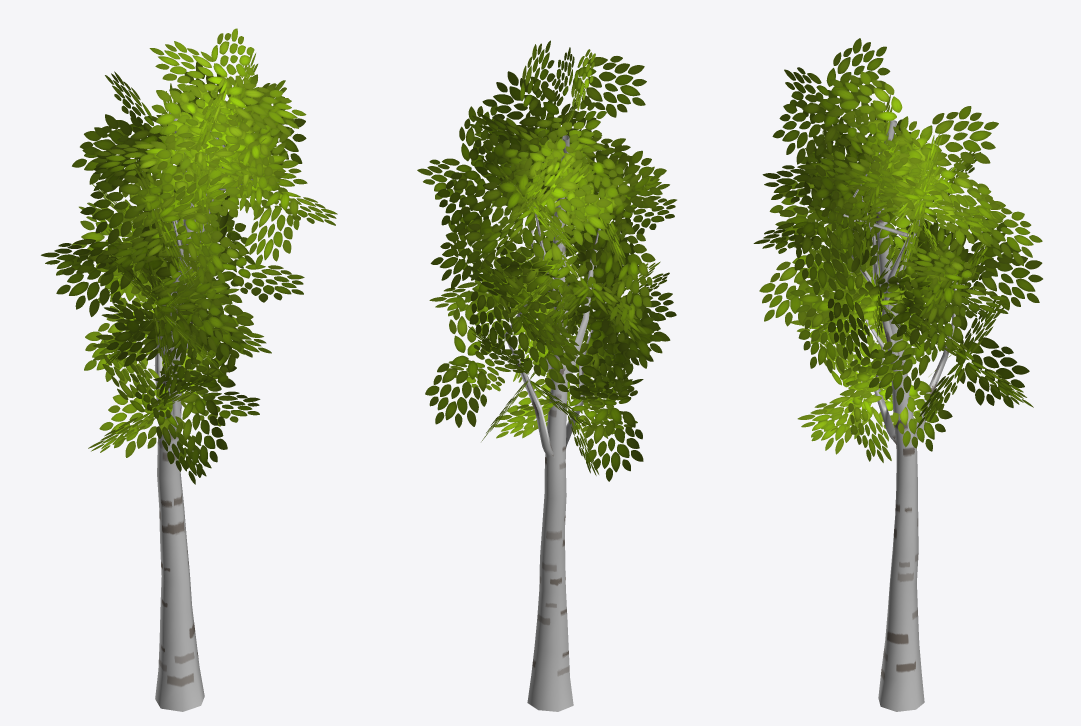
File: Tree01A.glb
3 views of the same model, side by side, from view 1: azimuth 30°, elevation 25°; view 2: azimuth 150°, elevation 25°; view 3: azimuth 270°, elevation 25° (orthographic). The views are drawn at different scales.
Parts seen in each view (by area): view 1: stylizedTree01; view 2: stylizedTree01; view 3: stylizedTree01.
Part boxes in pixels (<box>): stylizedTree01: <box>41,28,337,711</box>; stylizedTree01: <box>417,40,676,711</box>; stylizedTree01: <box>753,38,1042,711</box>.
Bounding box in the file's own units: 5.99 × 13.39 × 6.09.
2 materials, 2 textured.
